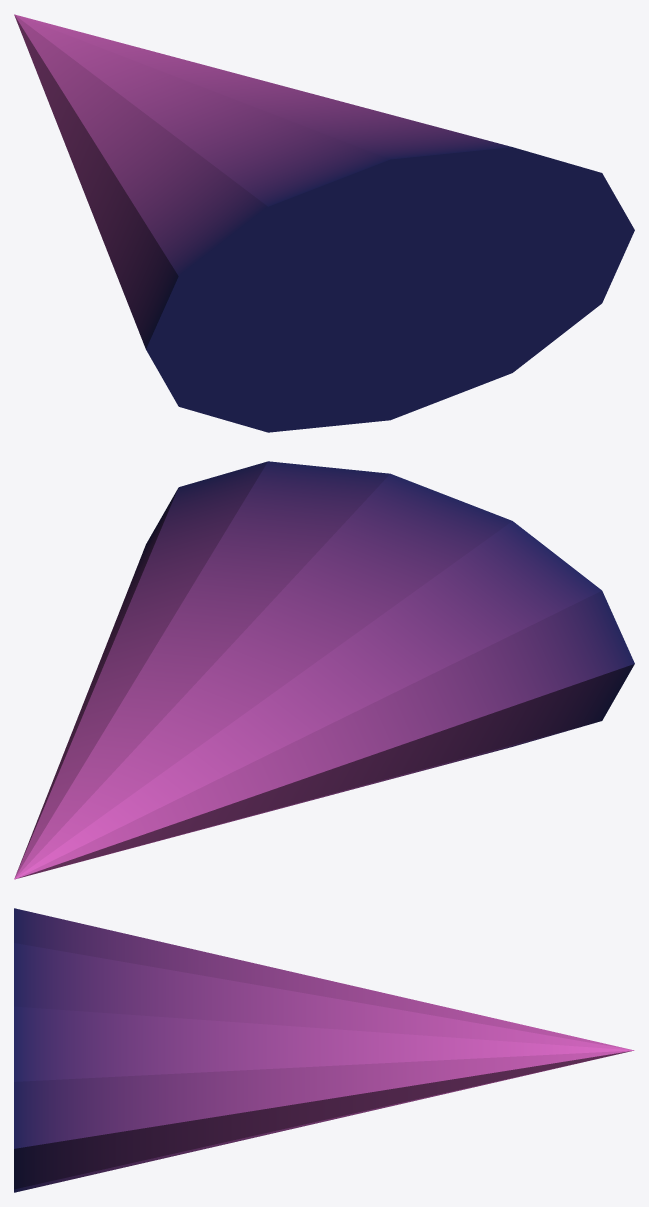
File: arrow.fbx
3 views of the same model, one above another, from view 1: azimuth 30°, elevation 25°; view 2: azimuth 150°, elevation 25°; view 3: azimuth 270°, elevation 25° (orthographic). The views are drawn at different scales.
Visible parts, largest first — view 1: pCone1; view 2: pCone1; view 3: pCone1.
Part boxes in pixels (x1,y1,x2,y2): pCone1: (14,14,634,432); pCone1: (14,461,634,879); pCone1: (14,908,634,1192).
Bounding box in the file's own units: 3 × 1.53 × 4.
